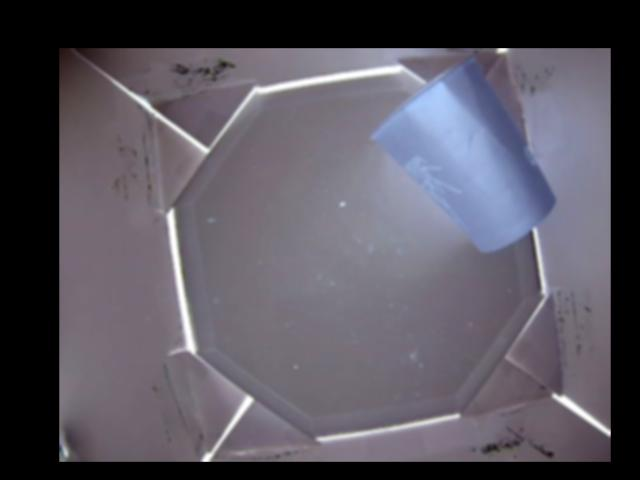Cup: (369, 58, 557, 251)
